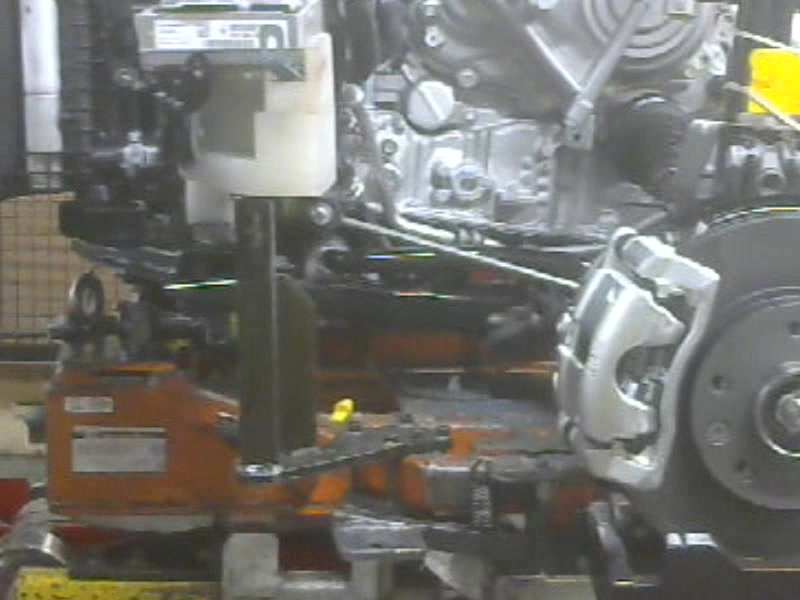DD3: (705, 196, 800, 534)
P3: (547, 225, 721, 490)
